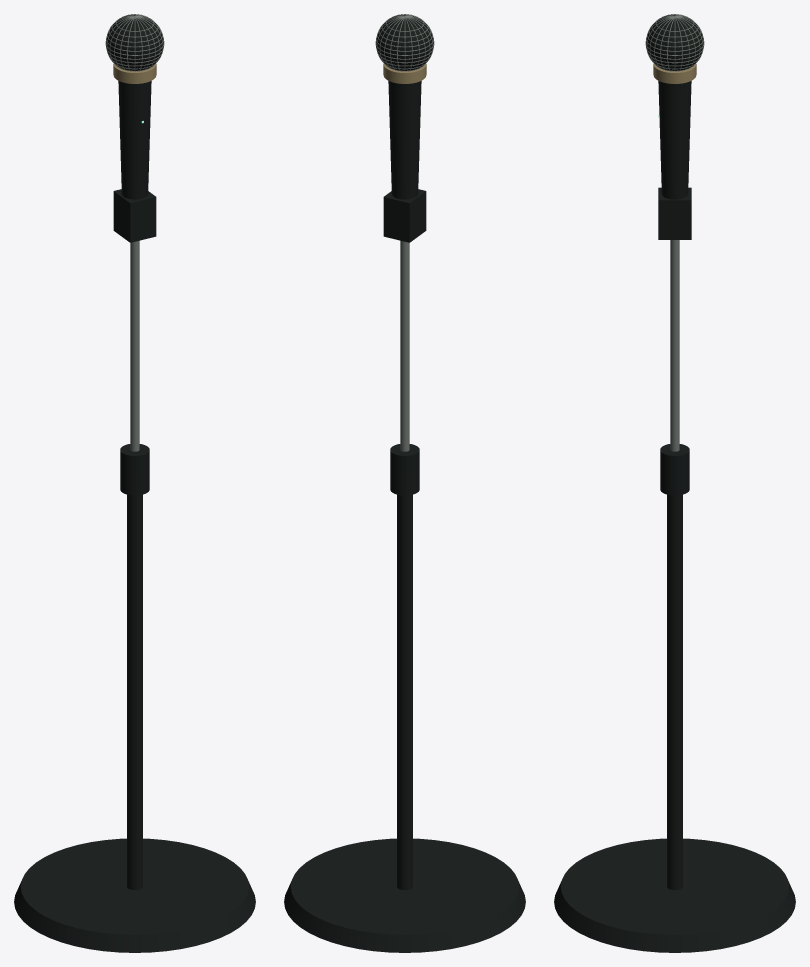
The model's file is microphone-v1.glb.
3 views of the same model, side by side, from view 1: azimuth 30°, elevation 25°; view 2: azimuth 150°, elevation 25°; view 3: azimuth 270°, elevation 25° (orthographic).
Visible parts, largest first — view 1: Microphone stand weighted base, Microphone stand lower pole, Wireless microphone body, Microphone mesh grille, Microphone stand telescopic pole, Microphone clip, Stand adjustment collar, Microphone grille collar; view 2: Microphone stand weighted base, Microphone stand lower pole, Wireless microphone body, Microphone mesh grille, Microphone stand telescopic pole, Microphone clip, Stand adjustment collar, Microphone grille collar; view 3: Microphone stand weighted base, Microphone stand lower pole, Wireless microphone body, Microphone mesh grille, Microphone stand telescopic pole, Microphone clip, Stand adjustment collar, Microphone grille collar.
Part boxes in pixels (<box>): Microphone stand weighted base: <box>14,838,255,952</box>; Microphone stand lower pole: <box>127,494,142,889</box>; Wireless microphone body: <box>118,81,151,199</box>; Microphone mesh grille: <box>106,14,163,70</box>; Microphone stand telescopic pole: <box>130,240,139,451</box>; Microphone clip: <box>113,189,156,242</box>; Stand adjustment collar: <box>120,444,149,495</box>; Microphone grille collar: <box>113,63,156,83</box>; Microphone stand weighted base: <box>284,838,525,952</box>; Microphone stand lower pole: <box>397,494,412,889</box>; Wireless microphone body: <box>388,81,421,199</box>; Microphone mesh grille: <box>376,14,433,70</box>; Microphone stand telescopic pole: <box>400,240,409,451</box>; Microphone clip: <box>383,189,426,242</box>; Stand adjustment collar: <box>390,444,419,495</box>; Microphone grille collar: <box>383,63,426,83</box>; Microphone stand weighted base: <box>554,838,795,952</box>; Microphone stand lower pole: <box>667,494,682,889</box>; Wireless microphone body: <box>658,81,691,199</box>; Microphone mesh grille: <box>646,14,703,70</box>; Microphone stand telescopic pole: <box>670,240,679,451</box>; Microphone clip: <box>658,187,691,239</box>; Stand adjustment collar: <box>660,444,689,495</box>; Microphone grille collar: <box>653,63,696,83</box>.
Size of the model in its own units: 0.36 by 1.45 by 0.36.
